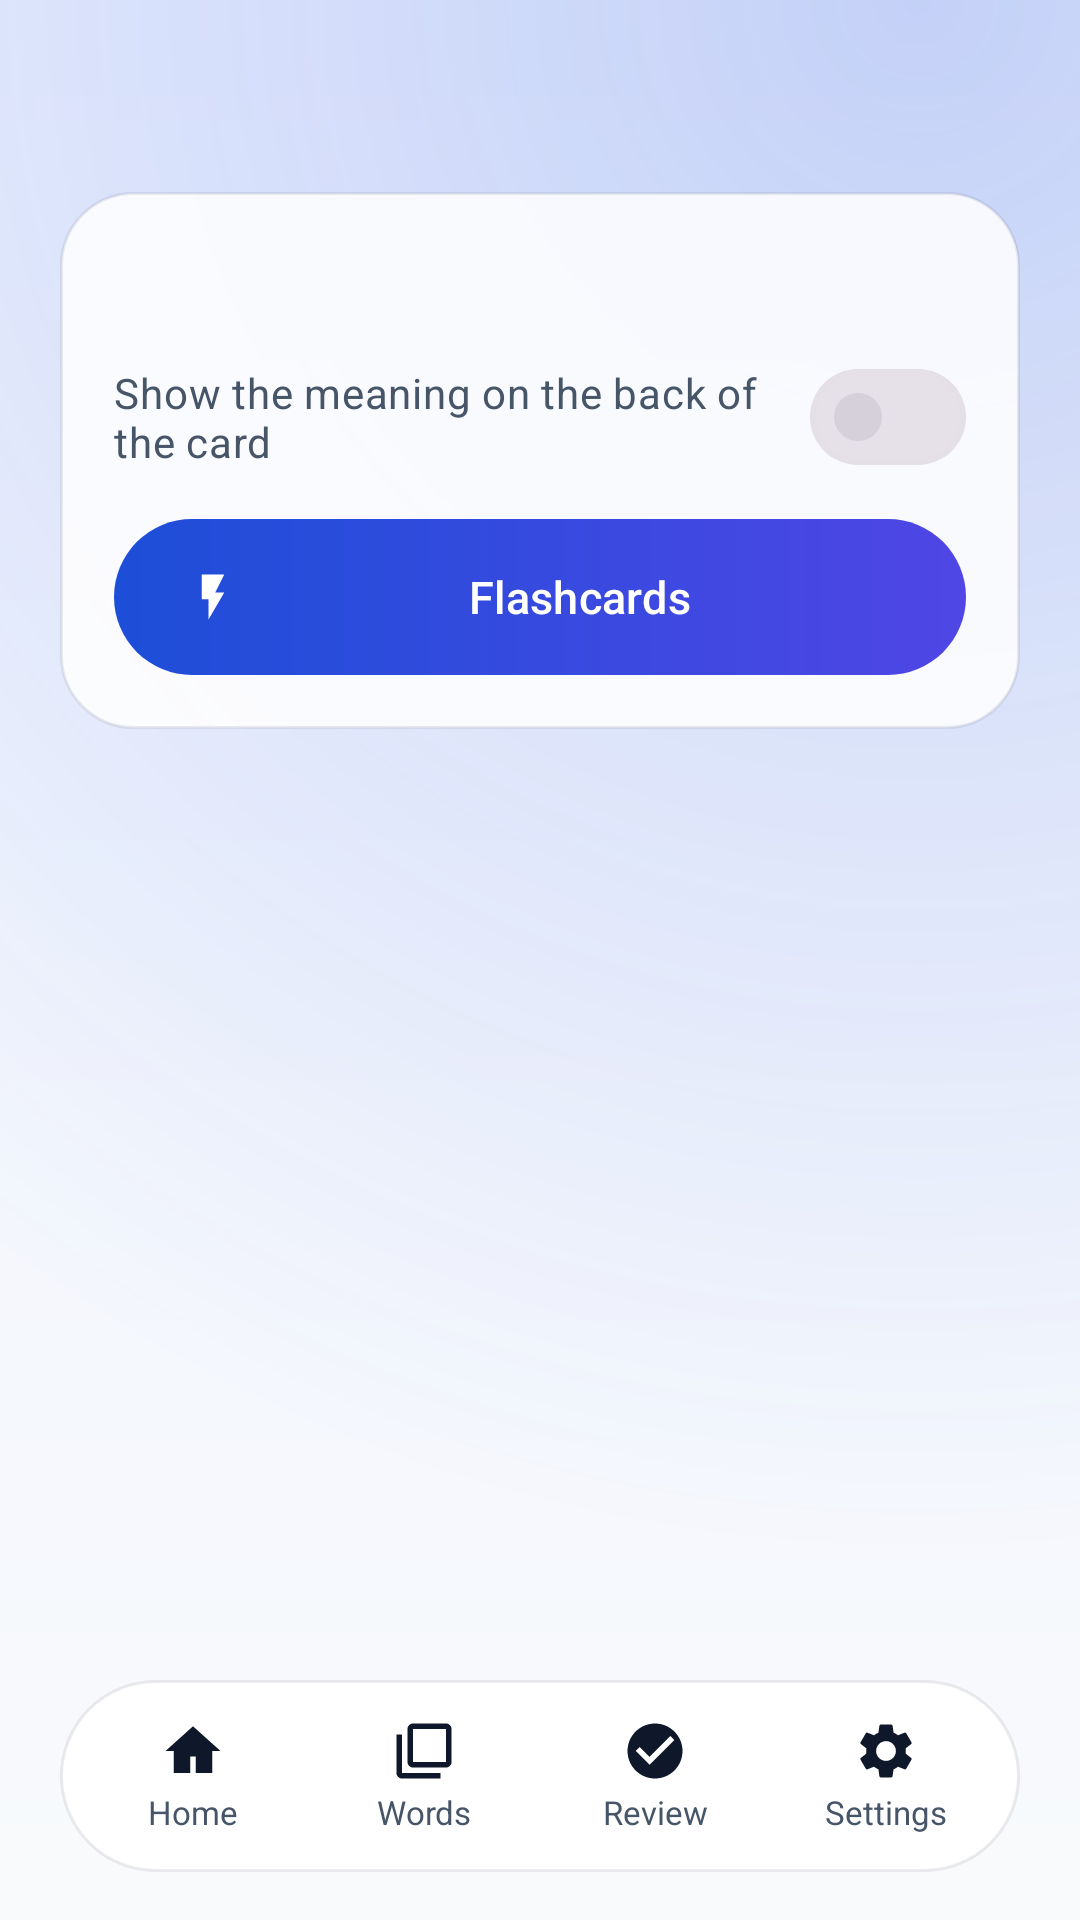

Screen size 1080 x 1920. Icon name, then its center in pixels as (x,y):
cards: (424,1751)
check: (655,1751)
